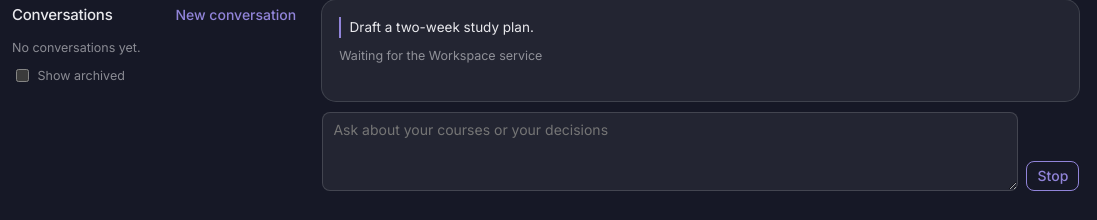
it: after a request closes with its answer unstored the messages are polled every 5 s, for up to 60 s › polls when Stop was pressed on a row the page still read as queued, and the runner had begun
Click the button "Stop" at {"x": 1053, "y": 176}, box left=1026, top=161, right=1080, bottom=191
Wait 2000 ms
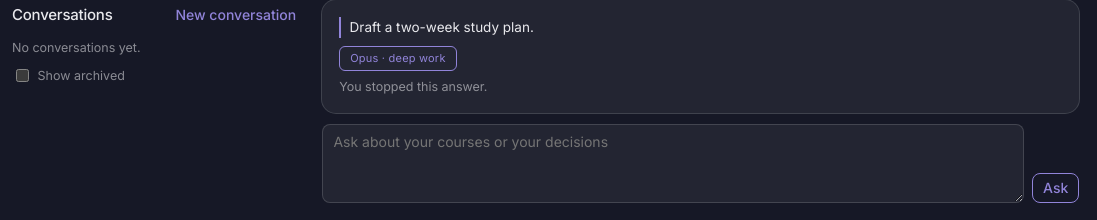
Result: the text "You stopped this answer." is shown at left=339, top=79, right=487, bottom=94
